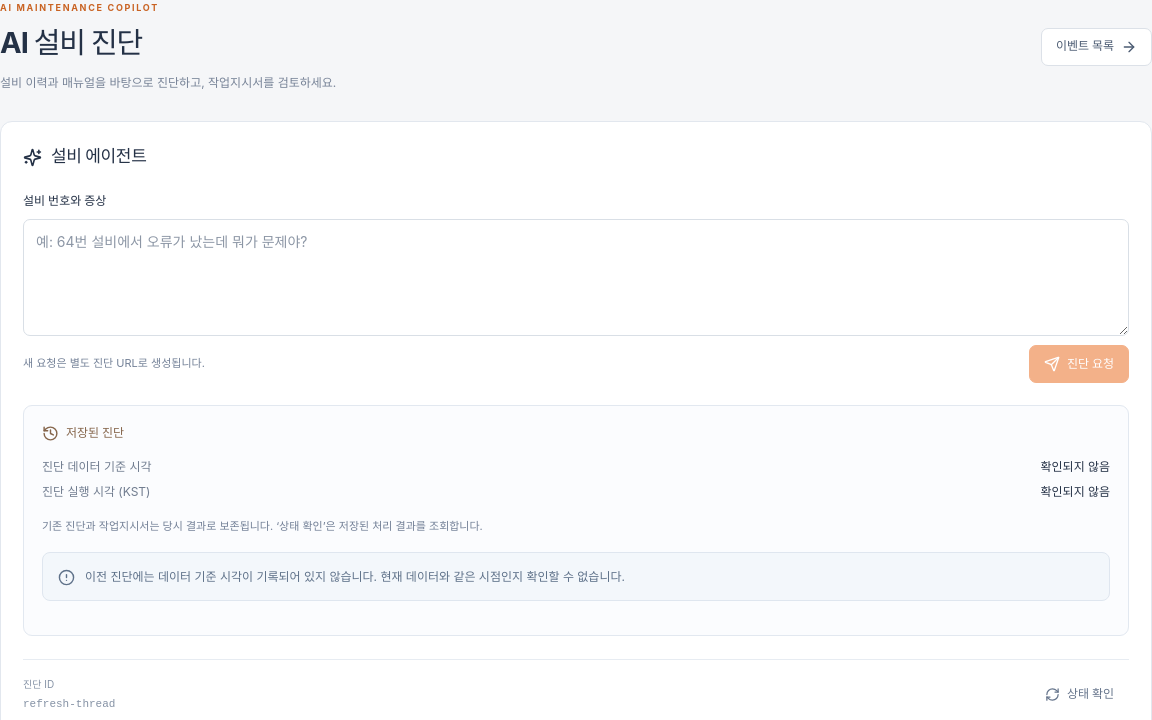
Test: diagnosis and approval recovery › preserves an unconfirmed action across refresh until explicit status confirmation
The image size is (1152, 720).
Click the button "상태 확인": (1080, 694) left=1030, top=675, right=1129, bottom=713
(page scrolled)
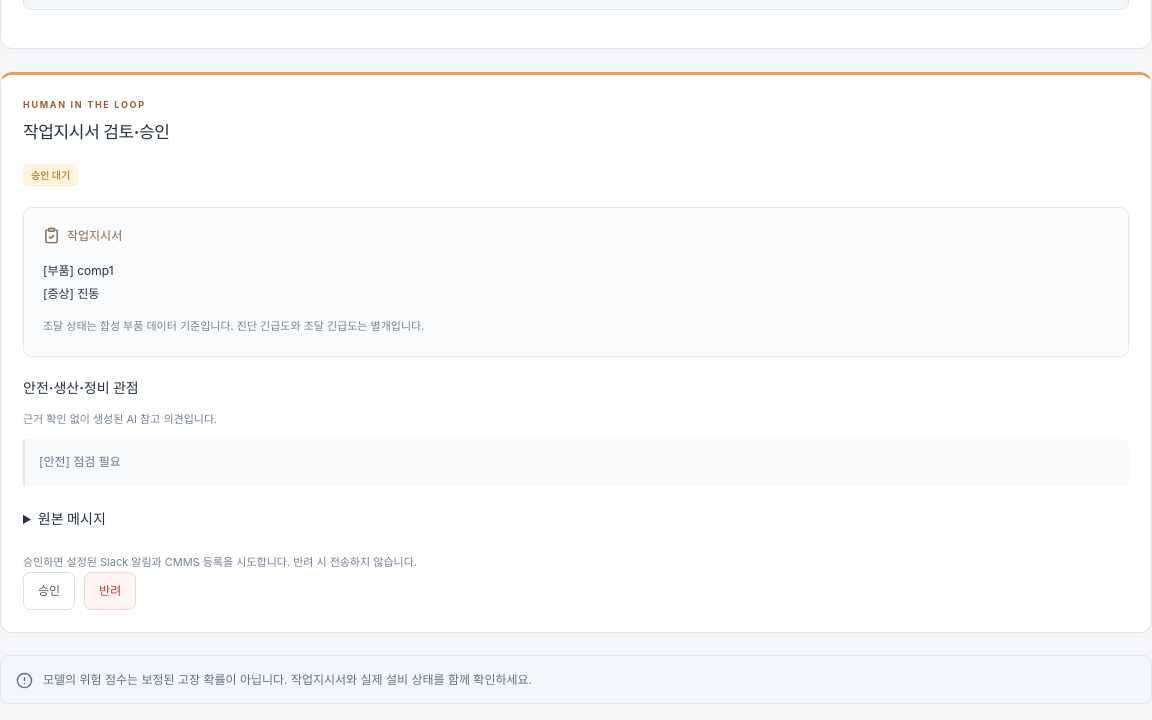
Result: the button "승인" is enabled at left=23, top=572, right=75, bottom=610
